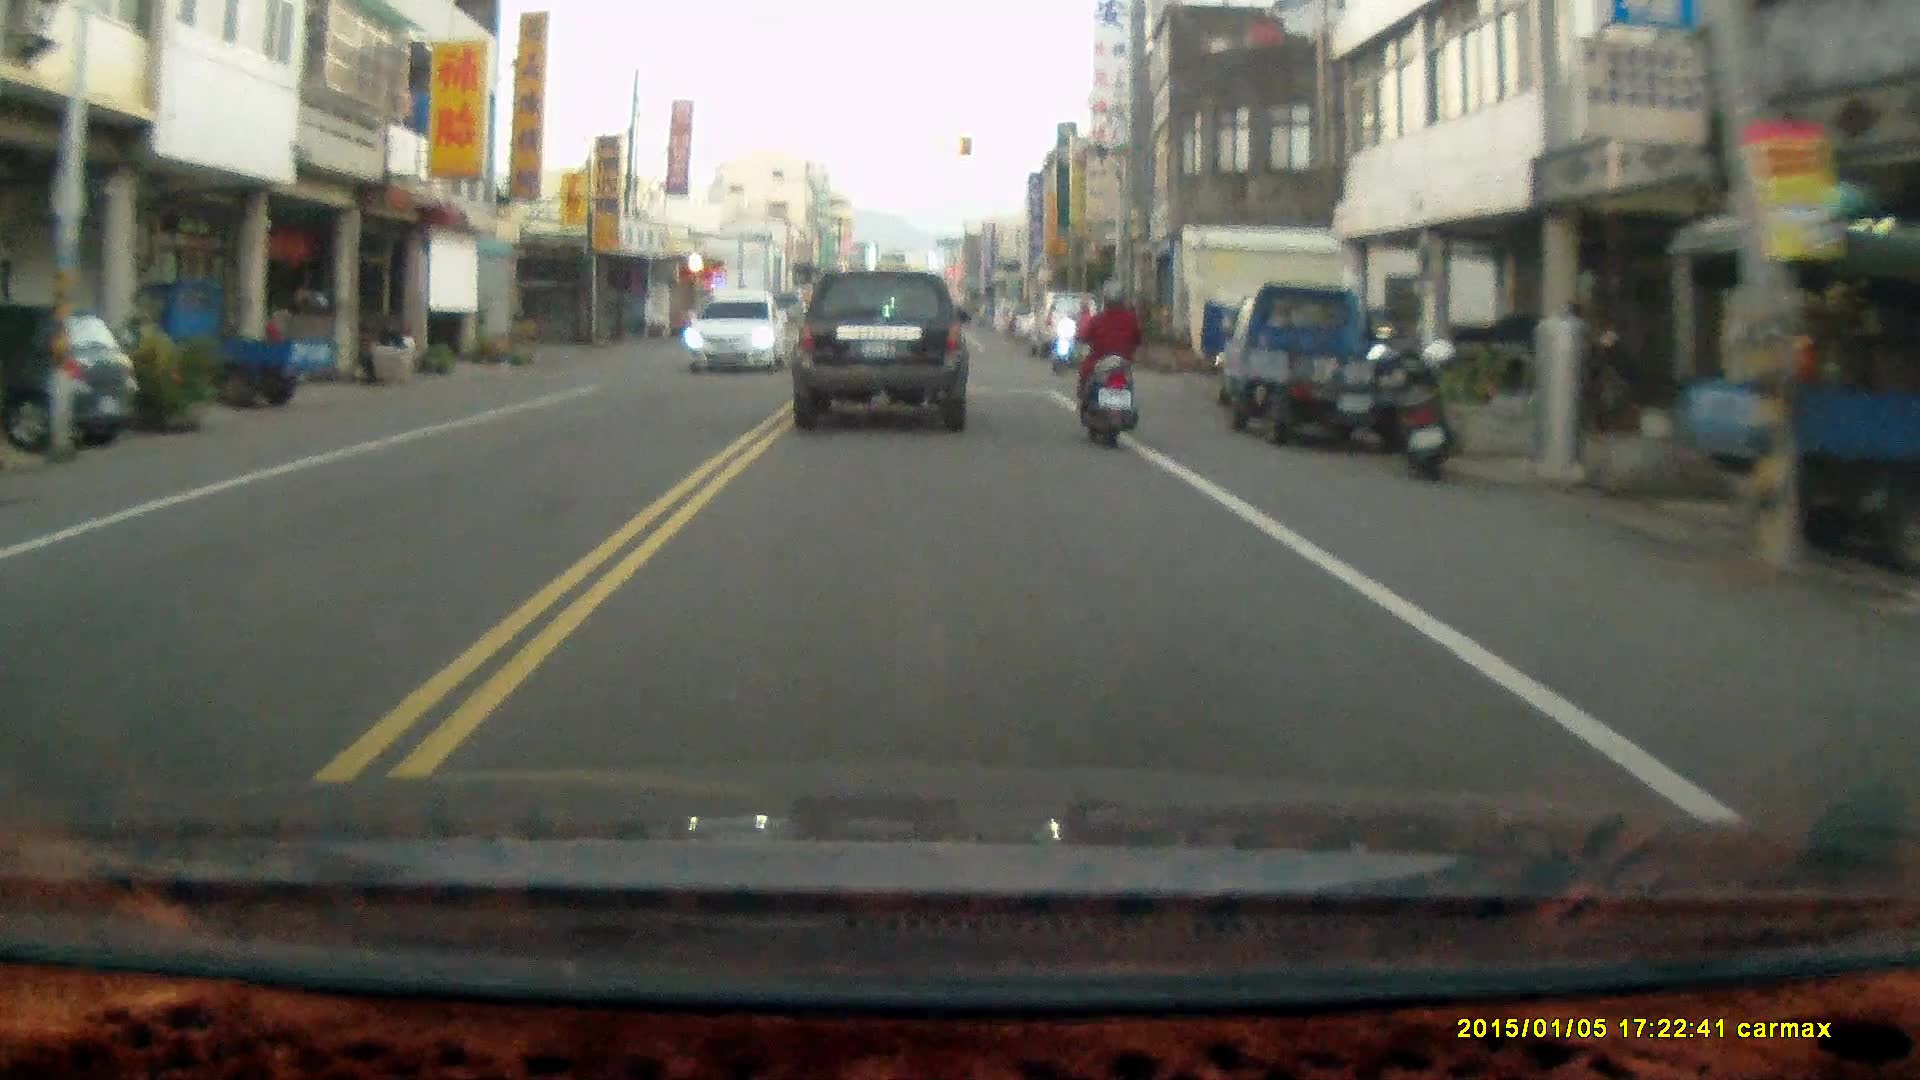rider: (1078, 277, 1141, 448), (1049, 297, 1099, 369)
vehicle: (1222, 284, 1439, 448), (794, 267, 973, 435), (112, 275, 341, 407), (1, 302, 136, 448), (683, 292, 789, 376)
